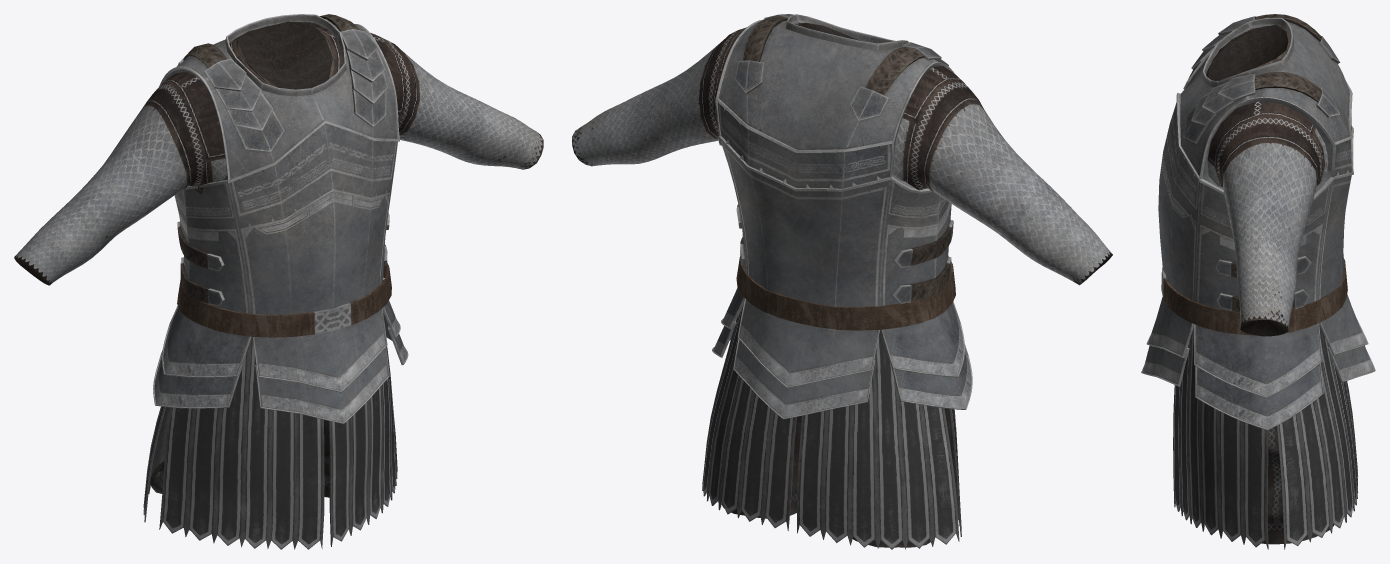
The model's file is sk_dwarf_erebor_chest_plate_heavy_b.fbx.
3 renders of one model, left to right at view 1: azimuth 30°, elevation 25°; view 2: azimuth 150°, elevation 25°; view 3: azimuth 270°, elevation 25°, orthographic. The views are drawn at different scales.
Parts seen in each view (by area): view 1: sk_dwarf_erebor_chest_plate_heavy_b.1, sk_dwarf_erebor_chest_plate_heavy_b.2, sk_dwarf_erebor_chest_plate_heavy_b.0; view 2: sk_dwarf_erebor_chest_plate_heavy_b.1, sk_dwarf_erebor_chest_plate_heavy_b.2, sk_dwarf_erebor_chest_plate_heavy_b.0; view 3: sk_dwarf_erebor_chest_plate_heavy_b.1, sk_dwarf_erebor_chest_plate_heavy_b.2, sk_dwarf_erebor_chest_plate_heavy_b.0.
Boxes of the visible parts, left/top/right/bottom form: sk_dwarf_erebor_chest_plate_heavy_b.1: left=153, top=14, right=408, bottom=423; sk_dwarf_erebor_chest_plate_heavy_b.2: left=14, top=21, right=543, bottom=337; sk_dwarf_erebor_chest_plate_heavy_b.0: left=143, top=337, right=397, bottom=549; sk_dwarf_erebor_chest_plate_heavy_b.1: left=712, top=14, right=972, bottom=419; sk_dwarf_erebor_chest_plate_heavy_b.2: left=572, top=22, right=1112, bottom=330; sk_dwarf_erebor_chest_plate_heavy_b.0: left=702, top=305, right=961, bottom=549; sk_dwarf_erebor_chest_plate_heavy_b.1: left=1141, top=14, right=1375, bottom=430; sk_dwarf_erebor_chest_plate_heavy_b.2: left=1161, top=24, right=1347, bottom=336; sk_dwarf_erebor_chest_plate_heavy_b.0: left=1173, top=325, right=1358, bottom=549.
Bounding box in the file's own units: 1.16 × 0.4707 × 1.04.
Materials: 3 (3 with a texture image).
